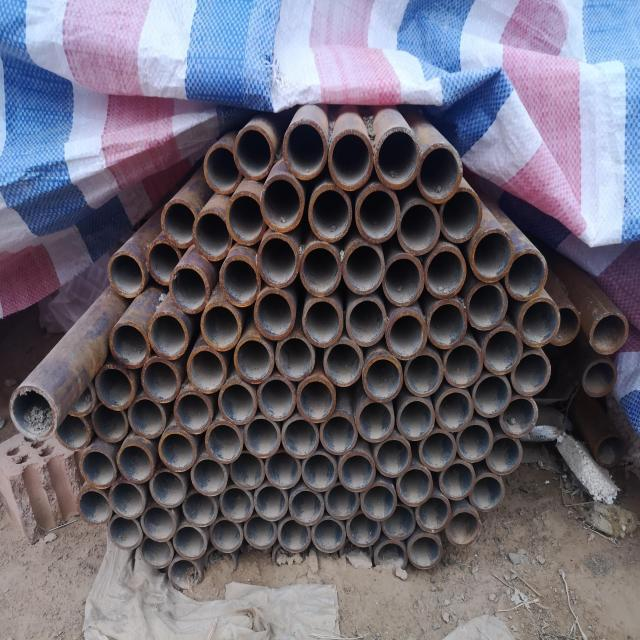pipe: (328, 126, 376, 190), (416, 143, 463, 203), (376, 125, 420, 189), (8, 386, 58, 442), (281, 118, 327, 178), (356, 184, 400, 242), (260, 173, 304, 230), (299, 240, 342, 298), (340, 241, 385, 296), (469, 228, 514, 282), (256, 233, 300, 288), (439, 187, 482, 242), (505, 247, 548, 302), (308, 184, 350, 240), (398, 198, 440, 254), (218, 254, 261, 308), (234, 122, 274, 180), (516, 297, 562, 347), (253, 288, 296, 341), (192, 208, 234, 262), (382, 254, 425, 306), (424, 245, 466, 298), (384, 310, 428, 360), (200, 300, 242, 352), (225, 190, 265, 243), (302, 297, 343, 348), (170, 262, 210, 314), (466, 281, 508, 330), (109, 321, 151, 369), (186, 346, 228, 394), (148, 310, 188, 360), (346, 298, 386, 348), (427, 298, 467, 348), (323, 338, 363, 388), (140, 356, 182, 403), (274, 334, 316, 381), (95, 362, 136, 410), (233, 336, 274, 384), (482, 328, 523, 376), (362, 354, 403, 402), (201, 143, 240, 193), (296, 376, 336, 424), (160, 198, 198, 248), (588, 310, 630, 355), (511, 350, 552, 396), (256, 375, 296, 421), (108, 251, 146, 299), (173, 389, 213, 434), (404, 350, 443, 396), (144, 239, 182, 286), (444, 341, 482, 388), (217, 380, 257, 424), (319, 410, 357, 456), (127, 396, 166, 440), (473, 373, 511, 418), (499, 395, 538, 438), (356, 398, 394, 442), (91, 401, 129, 444), (205, 421, 243, 464), (282, 415, 320, 458), (396, 398, 434, 441), (244, 414, 281, 458), (116, 442, 154, 484), (108, 478, 146, 520), (158, 430, 196, 472), (338, 450, 376, 492), (456, 420, 494, 462), (359, 480, 397, 522), (396, 464, 434, 506), (148, 468, 187, 508), (52, 409, 90, 450), (374, 436, 412, 477), (486, 432, 523, 474), (436, 388, 472, 431), (79, 448, 117, 488), (228, 449, 266, 489), (418, 430, 456, 470), (468, 472, 506, 512), (414, 494, 452, 534), (301, 450, 338, 491), (190, 458, 228, 496), (264, 449, 300, 489), (438, 460, 474, 500), (446, 508, 482, 548), (550, 300, 580, 348), (582, 358, 618, 398), (323, 482, 360, 520), (406, 532, 443, 570), (288, 487, 324, 526), (64, 376, 96, 419), (76, 486, 112, 524), (140, 504, 176, 542), (253, 482, 288, 521), (208, 516, 244, 553), (310, 516, 346, 553), (346, 510, 381, 548), (107, 514, 143, 550), (172, 524, 208, 560), (242, 513, 278, 549), (276, 517, 312, 553), (380, 504, 416, 540), (183, 490, 218, 527), (219, 486, 254, 522), (374, 540, 408, 576), (166, 557, 203, 590), (139, 536, 174, 569), (594, 433, 626, 469), (336, 538, 374, 568), (204, 548, 240, 576), (268, 542, 302, 568)
